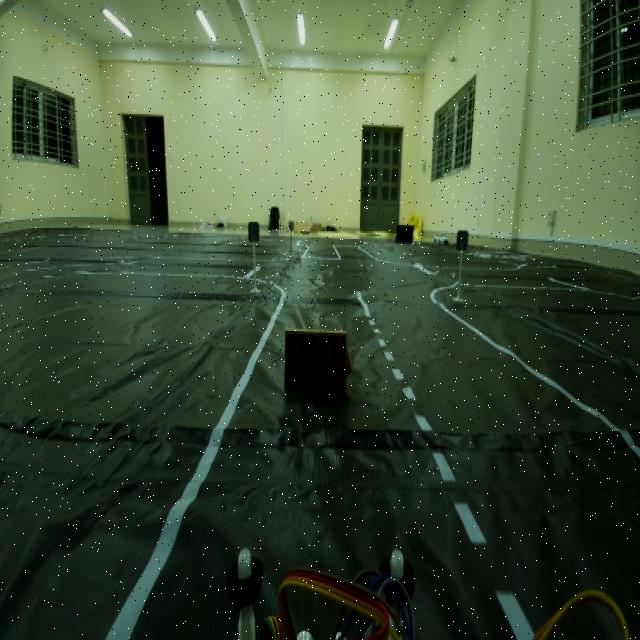roadblock: (276, 322, 354, 404)
